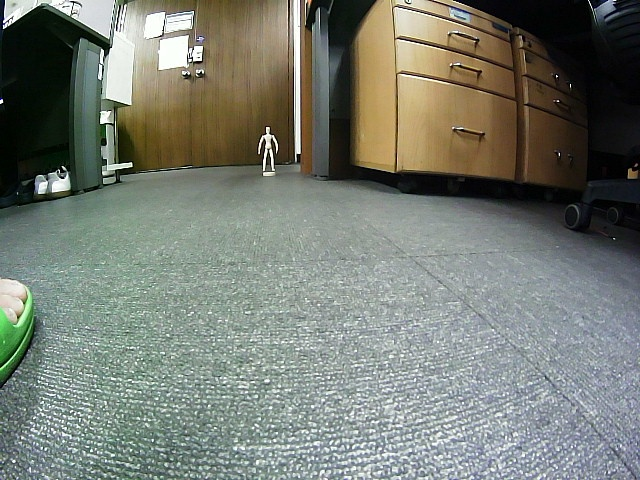person: (257, 125, 279, 172)
